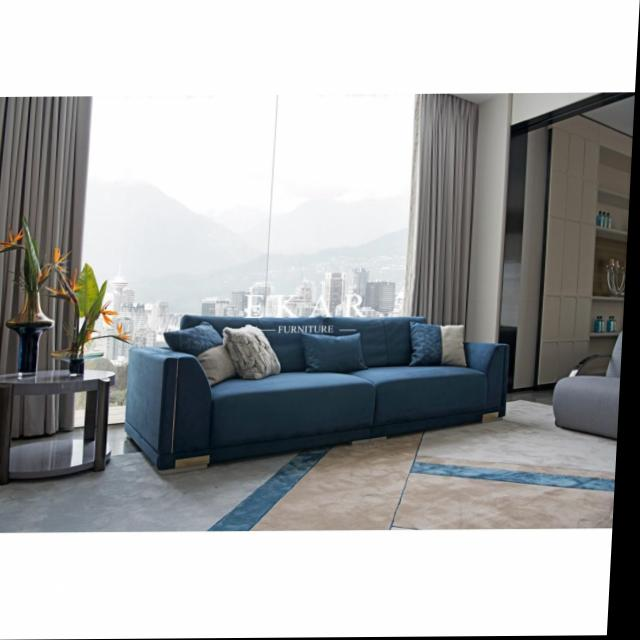Sofa: (128, 312, 517, 471)
